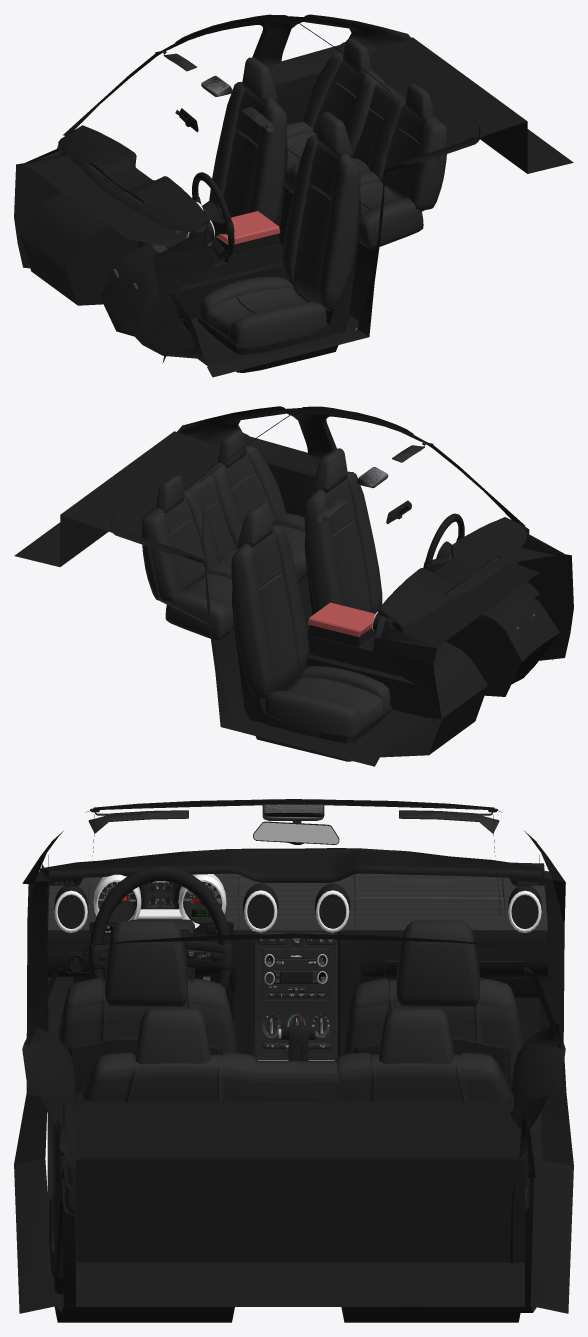
File: mustang_interior.glb
The picture shows the model from 3 angles, top to bottom: view 1: azimuth 30°, elevation 25°; view 2: azimuth 150°, elevation 25°; view 3: azimuth 270°, elevation 25°; orthographic projection. The views are drawn at different scales.
Parts seen in each view (by area): view 1: intdash_Car_Plastics_0, fseats_Material #205_0, rseats_Material #205_0, inttop_Car_Plastics_0, fseats_Car_Plastics_0, intdash_Leather Top Grain Black_0, msngsteeringwheel_Car_Plastics_0, subvisors_Material #205_0, msngsteeringwheel_Material #217_0; view 2: intdash_Car_Plastics_0, fseats_Material #205_0, rseats_Material #205_0, inttop_Car_Plastics_0, fseats_Car_Plastics_0, intdash_Leather Top Grain Black_0, msngsteeringwheel_Car_Plastics_0, subvisors_Material #205_0; view 3: intdash_Car_Plastics_0, inttop_Car_Plastics_0, fseats_Material #205_0, rseats_Material #205_0, GaugeDashBoard_Material #1416_0, fseats_Car_Plastics_0, dashmid_Material #205_0, vents_Material #217_0, msngsteeringwheel_Car_Plastics_0, gauges_Material #450_0, subvisors_Material #205_0, vents_Aluminium Clean1_0 (+5 smaller).
Boxes of the visible parts, <box> form: intdash_Car_Plastics_0: <box>20,37,573,366</box>; fseats_Material #205_0: <box>200,57,360,344</box>; rseats_Material #205_0: <box>285,38,447,248</box>; inttop_Car_Plastics_0: <box>14,14,524,377</box>; fseats_Car_Plastics_0: <box>198,136,361,372</box>; intdash_Leather Top Grain Black_0: <box>216,211,280,244</box>; msngsteeringwheel_Car_Plastics_0: <box>192,172,234,258</box>; subvisors_Material #205_0: <box>162,50,275,132</box>; msngsteeringwheel_Material #217_0: <box>192,197,234,259</box>; intdash_Car_Plastics_0: <box>14,431,564,757</box>; fseats_Material #205_0: <box>231,448,390,737</box>; rseats_Material #205_0: <box>141,430,307,640</box>; inttop_Car_Plastics_0: <box>66,406,573,766</box>; fseats_Car_Plastics_0: <box>231,536,392,761</box>; intdash_Leather Top Grain Black_0: <box>308,602,375,636</box>; msngsteeringwheel_Car_Plastics_0: <box>425,513,464,564</box>; subvisors_Material #205_0: <box>314,442,426,523</box>; intdash_Car_Plastics_0: <box>39,848,547,1312</box>; inttop_Car_Plastics_0: <box>14,799,573,1313</box>; fseats_Material #205_0: <box>51,920,523,1241</box>; rseats_Material #205_0: <box>62,1008,530,1215</box>; GaugeDashBoard_Material #1416_0: <box>47,873,547,930</box>; fseats_Car_Plastics_0: <box>49,1038,520,1322</box>; dashmid_Material #205_0: <box>255,930,337,1060</box>; vents_Material #217_0: <box>54,883,541,928</box>; msngsteeringwheel_Car_Plastics_0: <box>90,866,231,992</box>; gauges_Material #450_0: <box>98,882,222,923</box>; subvisors_Material #205_0: <box>88,808,499,833</box>; vents_Aluminium Clean1_0: <box>54,890,541,932</box>.
Bounding box in the file's own units: 3.63 × 1.97 × 2.04.
40 materials, 29 textured.
